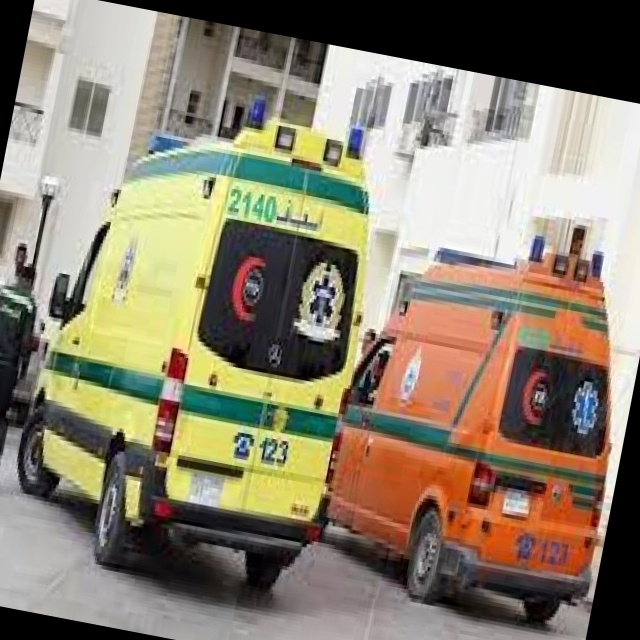Ambulance: (0, 63, 403, 605), (306, 180, 640, 634)
person: (0, 252, 46, 493)
